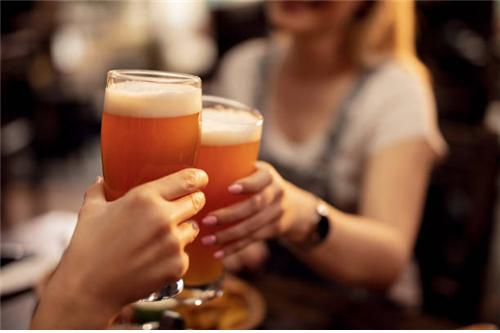alcohol: (101, 66, 203, 310), (185, 94, 264, 288)
